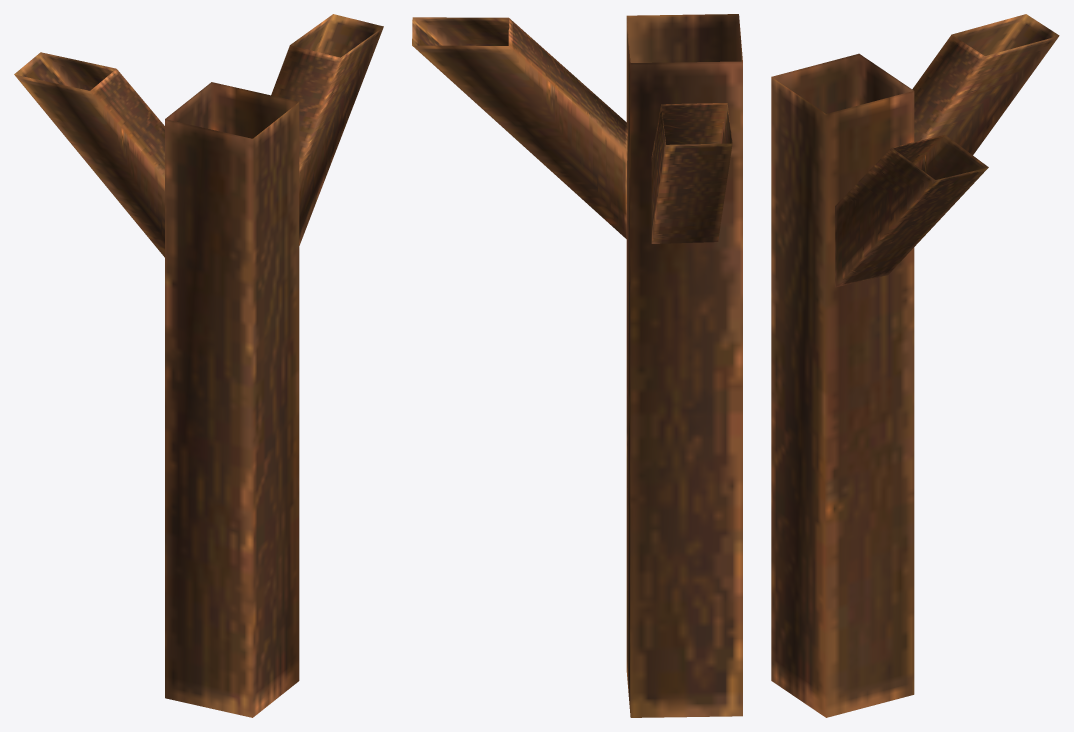
Rendered from SWORDLIGHT20_JAILPLATSUPPORT44.fbx.
3 renders of one model, left to right at view 1: azimuth 30°, elevation 25°; view 2: azimuth 150°, elevation 25°; view 3: azimuth 270°, elevation 25°, orthographic. The views are drawn at different scales.
Parts seen in each view (by area): view 1: SWORDLIGHT20_JAILPLATSUPPORT44; view 2: SWORDLIGHT20_JAILPLATSUPPORT44; view 3: SWORDLIGHT20_JAILPLATSUPPORT44.
Boxes of the visible parts, x1,y1,x2,y2 form: SWORDLIGHT20_JAILPLATSUPPORT44: (14, 14, 383, 717); SWORDLIGHT20_JAILPLATSUPPORT44: (412, 14, 742, 717); SWORDLIGHT20_JAILPLATSUPPORT44: (771, 14, 1059, 717).
Bounding box in the file's own units: 15166 × 25856 × 11123.
Materials: 1 (1 with a texture image).
